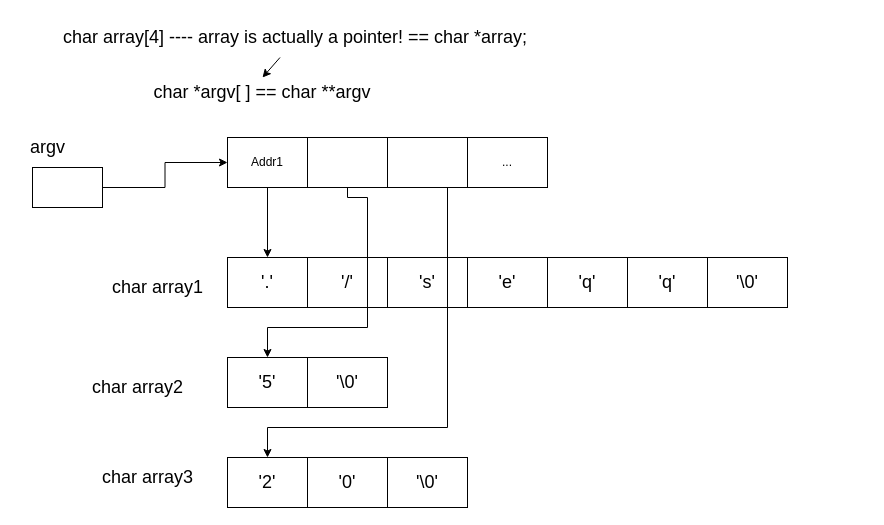
Image size: 884x525. Some labels were removed from this diagram. The shapes that lost their labels are listed below. From the top down, each one's box as (x1, y1, x2, y2) in pixels, then its label:
(306, 136, 388, 188): Addr2
(386, 136, 468, 188): Addr3
(32, 166, 102, 208): 0x7FA
